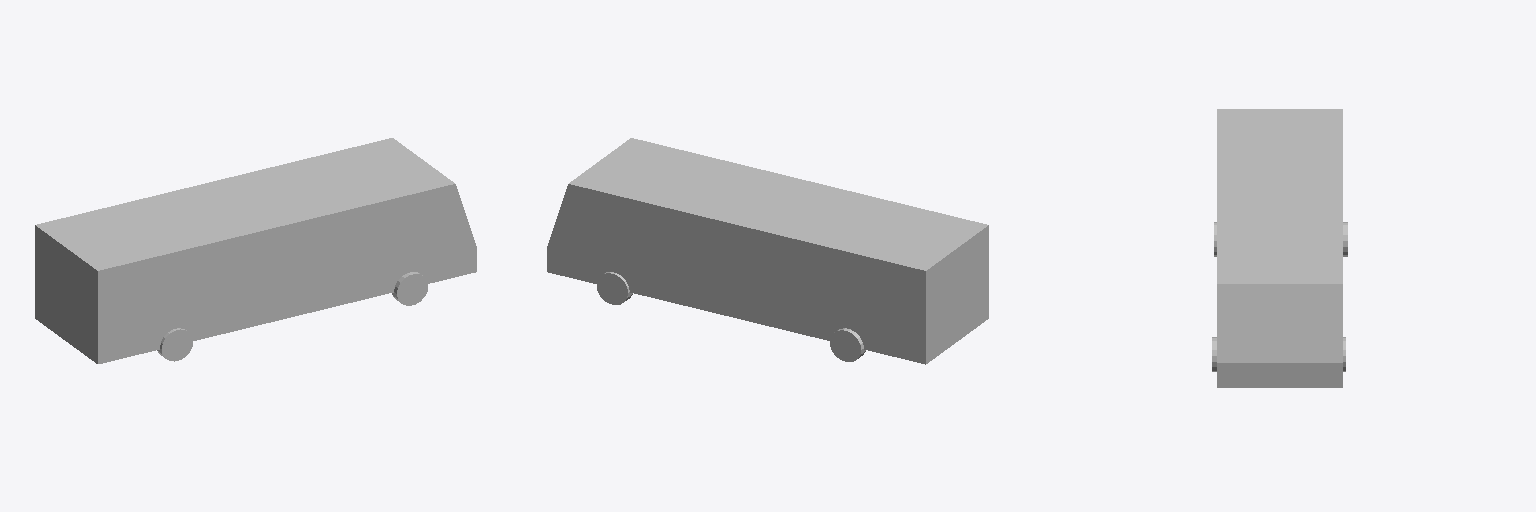
File: bus02.obj
3 views of the same model, side by side, from view 1: azimuth 30°, elevation 25°; view 2: azimuth 150°, elevation 25°; view 3: azimuth 270°, elevation 25° (orthographic).
Visible parts, largest first — view 1: Car_11; view 2: Car_11; view 3: Car_11.
Boxes of the visible parts, <box> form: Car_11: <box>35,138,476,363</box>; Car_11: <box>547,138,988,364</box>; Car_11: <box>1212,109,1347,387</box>.
Size of the model in its own units: 2.87 by 0.7856 by 0.8969.